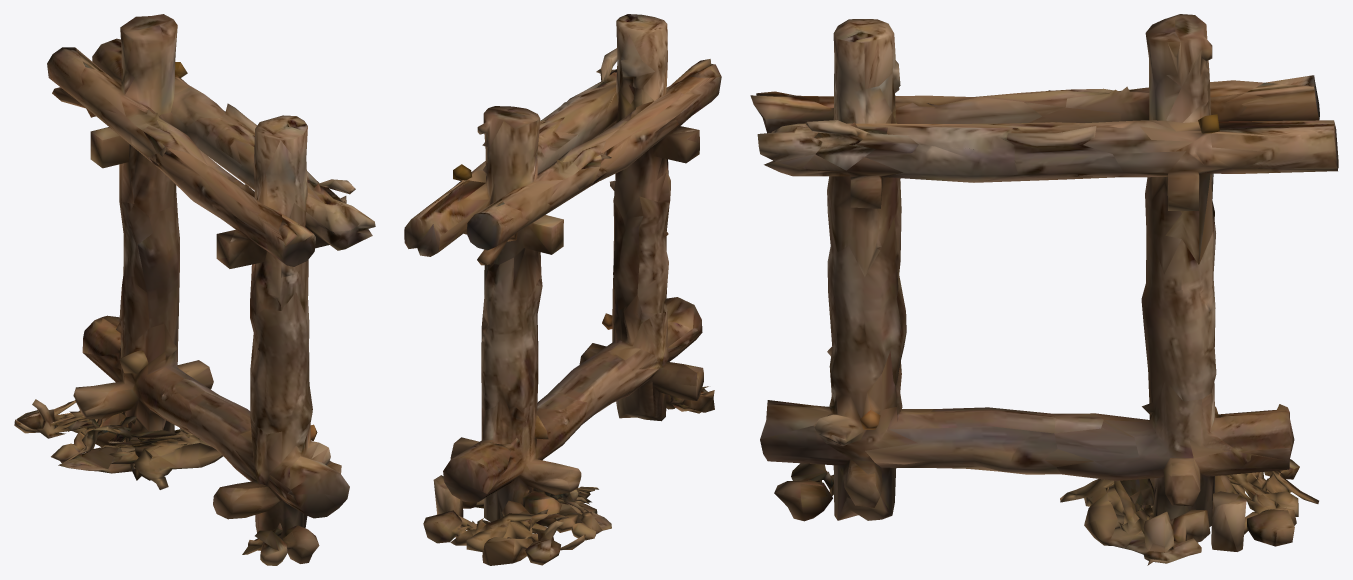
The model's file is ch5-gallery-timbers.glb.
The picture shows the model from 3 angles, left to right: view 1: azimuth 30°, elevation 25°; view 2: azimuth 150°, elevation 25°; view 3: azimuth 270°, elevation 25°; orthographic projection. The views are drawn at different scales.
Parts seen in each view (by area): view 1: tripo_node_ad77a449-ea69-4c32-9ba6-60c45bb6812b; view 2: tripo_node_ad77a449-ea69-4c32-9ba6-60c45bb6812b; view 3: tripo_node_ad77a449-ea69-4c32-9ba6-60c45bb6812b.
Boxes of the visible parts, x1,y1,x2,y2 form: tripo_node_ad77a449-ea69-4c32-9ba6-60c45bb6812b: [14, 14, 375, 565]; tripo_node_ad77a449-ea69-4c32-9ba6-60c45bb6812b: [404, 14, 721, 565]; tripo_node_ad77a449-ea69-4c32-9ba6-60c45bb6812b: [750, 14, 1338, 565].
Bounding box in the file's own units: 0.9525 × 2 × 2.13.
1 material, 1 textured.
